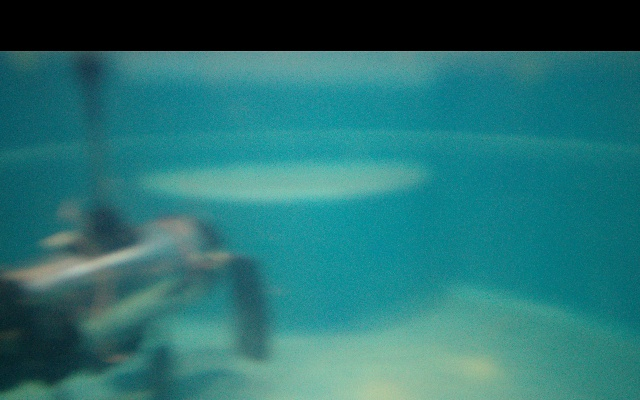black: (78, 72, 105, 225)
